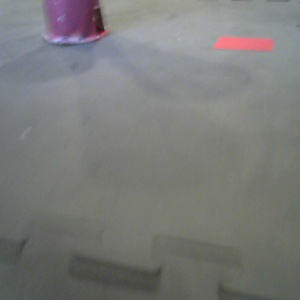middle: (41, 1, 105, 44)
